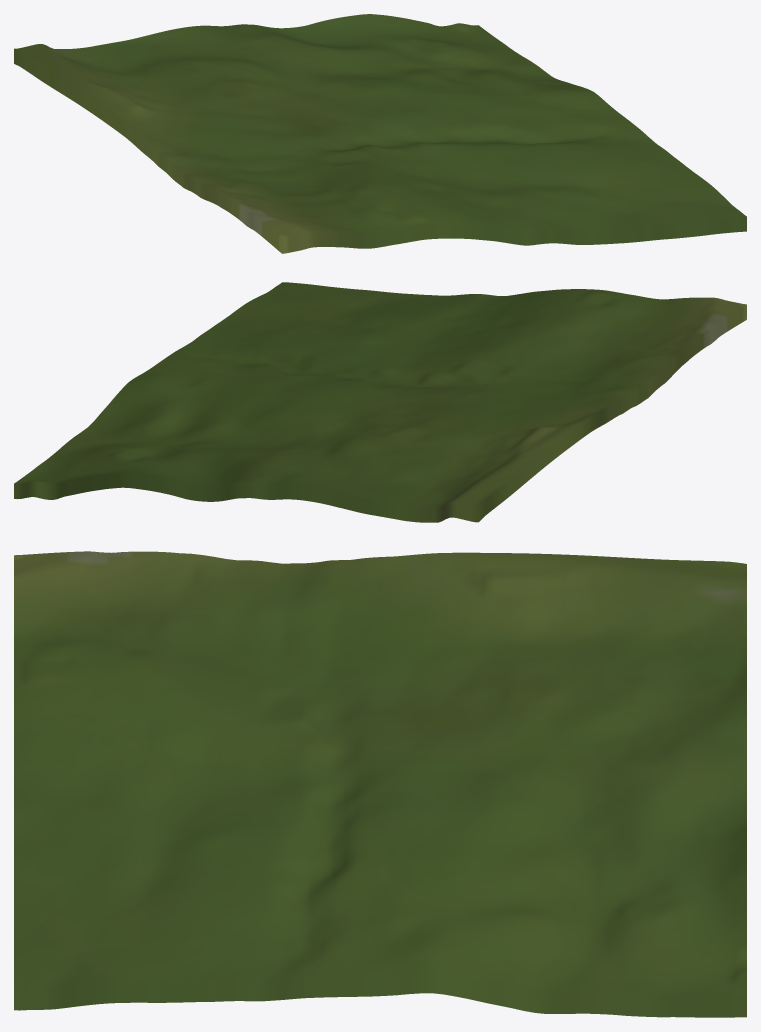
Rendered from terrain_8_-18.glb.
3 renders of one model, top to bottom at view 1: azimuth 30°, elevation 25°; view 2: azimuth 150°, elevation 25°; view 3: azimuth 270°, elevation 25°, orthographic. The views are drawn at different scales.
Parts seen in each view (by area): view 1: terrain_8_-18; view 2: terrain_8_-18; view 3: terrain_8_-18.
Boxes of the visible parts, x1,y1,x2,y2 form: terrain_8_-18: [14, 14, 746, 253]; terrain_8_-18: [14, 282, 746, 522]; terrain_8_-18: [14, 551, 746, 1017].
Size of the model in its own units: 256 by 60.3 by 256.
